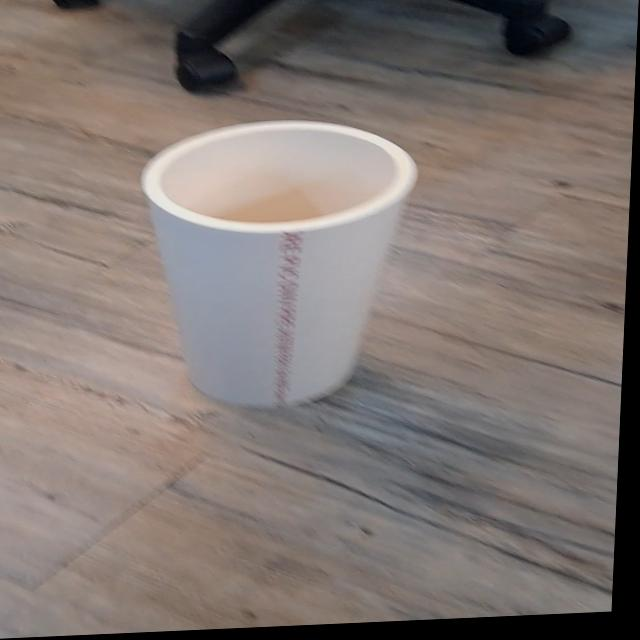CORAL: (118, 107, 443, 423)
